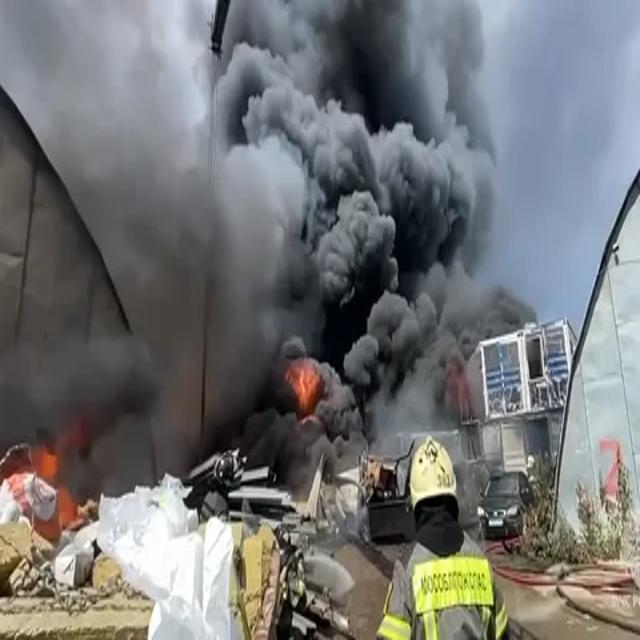Smoke: (207, 3, 499, 476), (1, 342, 156, 500)
